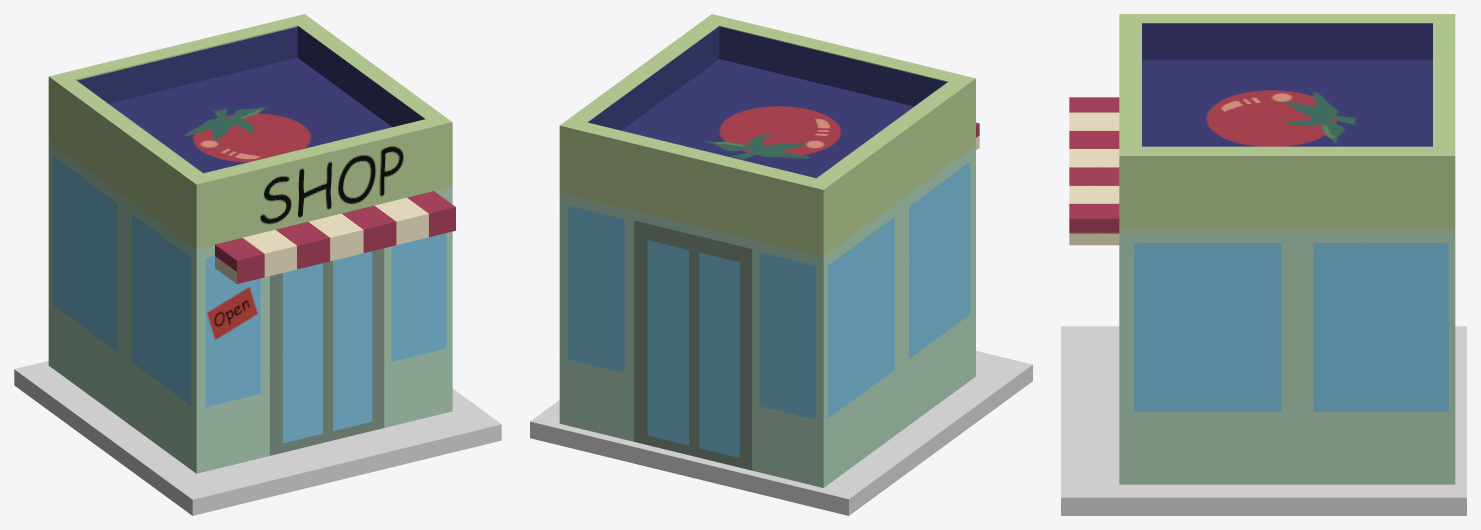
Rendered from Shop02_1.FBX.
3 renders of one model, left to right at view 1: azimuth 30°, elevation 25°; view 2: azimuth 150°, elevation 25°; view 3: azimuth 270°, elevation 25°, orthographic. The views are drawn at different scales.
Visible parts, largest first — view 1: Box002, Box001, Plane001; view 2: Box002, Box001; view 3: Box002, Box001, Plane001.
Boxes of the visible parts, x1,y1,x2,y2 form: Box002: [48, 14, 452, 473]; Box001: [14, 361, 501, 515]; Plane001: [215, 191, 455, 283]; Box002: [559, 14, 975, 487]; Box001: [530, 351, 1032, 515]; Box002: [1119, 14, 1455, 484]; Box001: [1061, 326, 1466, 515]; Plane001: [1069, 97, 1119, 245].
Size of the model in its own units: 1 by 0.9437 by 1.
2 materials, 2 textured.
